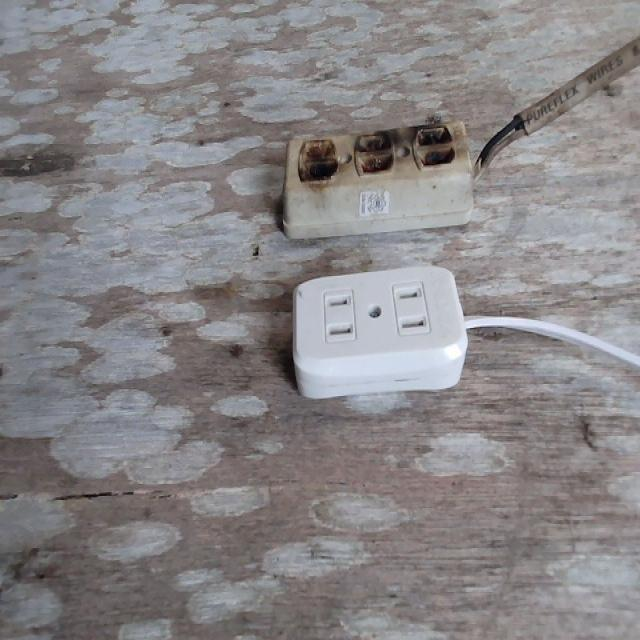-: (299, 120, 460, 188)
